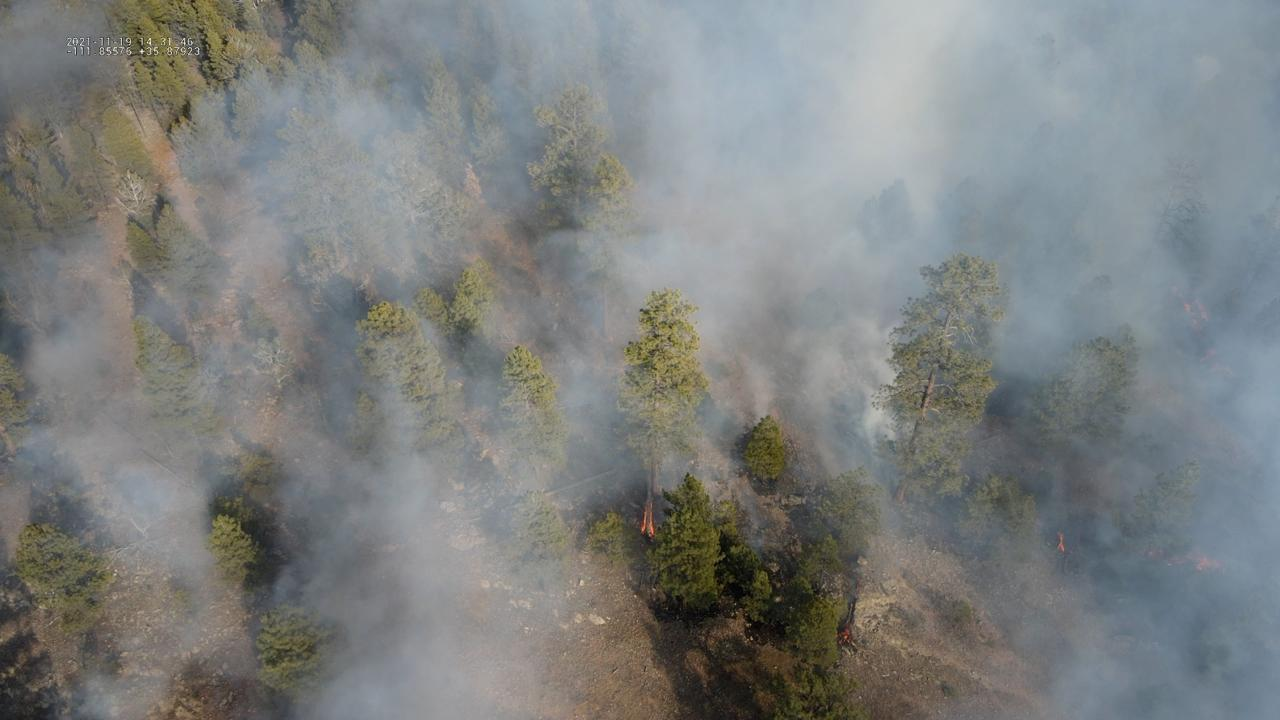fire: (1147, 546, 1221, 574), (1179, 301, 1210, 328), (638, 506, 657, 538), (1054, 529, 1071, 554), (837, 626, 853, 647)
smoke: (0, 0, 1280, 720)
